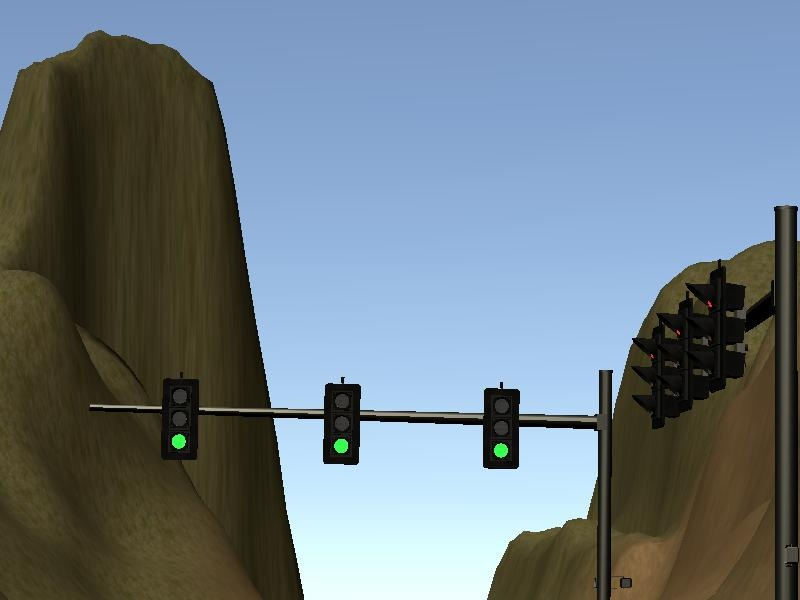GREEN: (481, 383, 522, 472), (322, 382, 363, 469), (160, 376, 200, 458)
